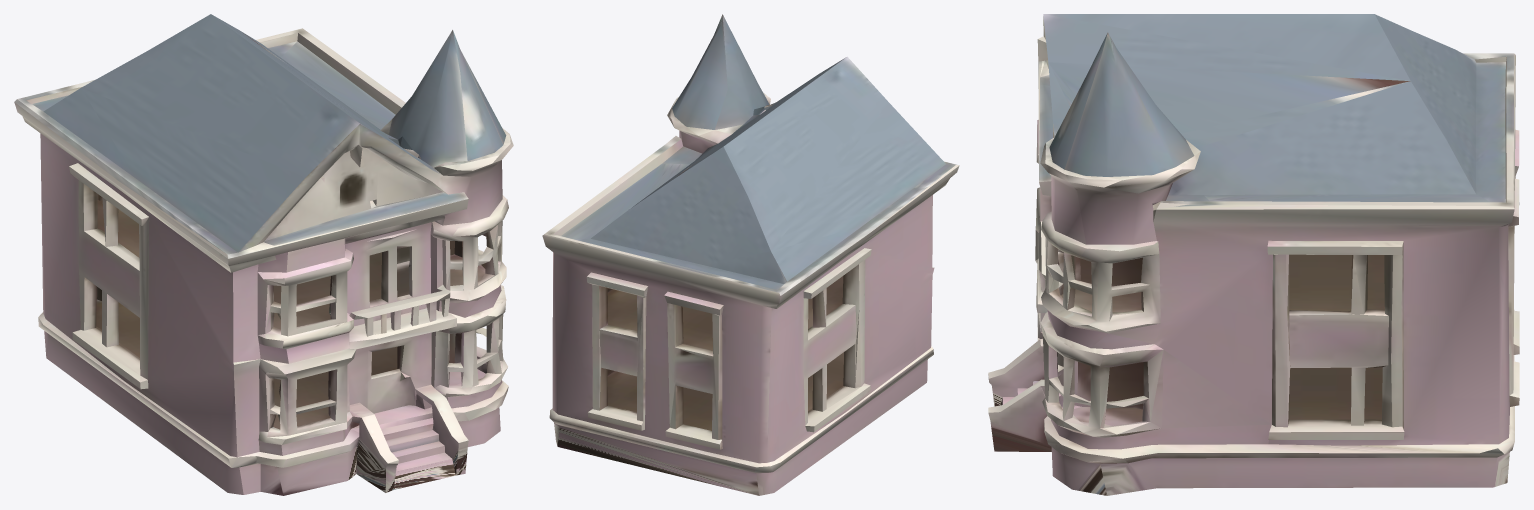
File: queen-anne-corner.glb
3 views of the same model, side by side, from view 1: azimuth 30°, elevation 25°; view 2: azimuth 150°, elevation 25°; view 3: azimuth 270°, elevation 25° (orthographic). The views are drawn at different scales.
Parts seen in each view (by area): view 1: queen-anne-corner; view 2: queen-anne-corner; view 3: queen-anne-corner.
Part boxes in pixels (x1,y1,x2,y2): queen-anne-corner: [14, 14, 513, 495]; queen-anne-corner: [542, 14, 959, 495]; queen-anne-corner: [988, 14, 1519, 495].
Bounding box in the file's own units: 5.2 × 6.4 × 7.
Materials: 1 (1 with a texture image).
